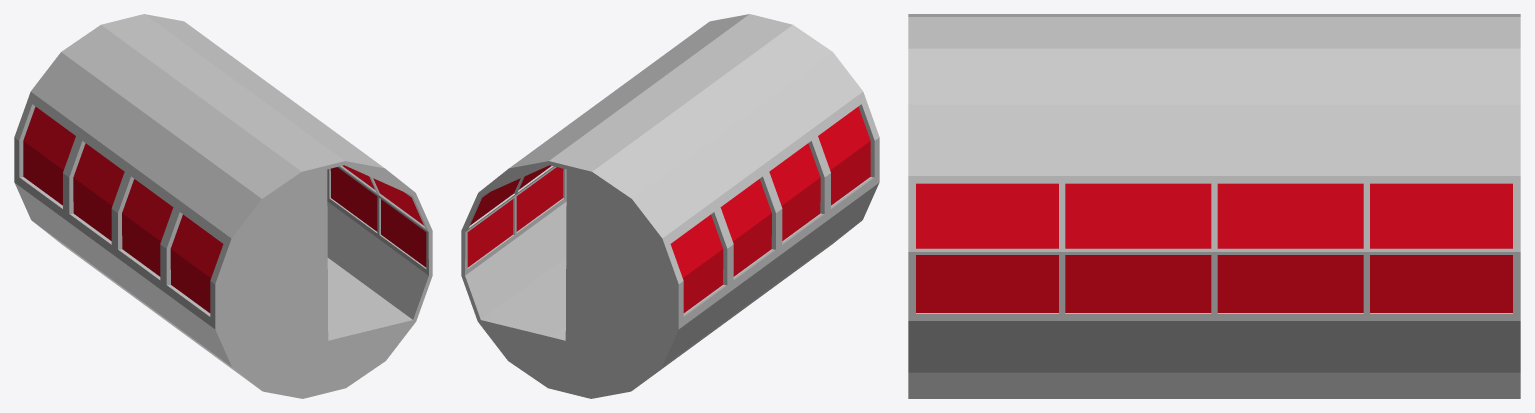
File: SM_monorail_station_02.gltf
3 renders of one model, left to right at view 1: azimuth 30°, elevation 25°; view 2: azimuth 150°, elevation 25°; view 3: azimuth 270°, elevation 25°, orthographic. The views are drawn at different scales.
Parts seen in each view (by area): view 1: monorail_station_02; view 2: monorail_station_02; view 3: monorail_station_02.
Part boxes in pixels (bbox=[...]): monorail_station_02: bbox=[14, 14, 432, 398]; monorail_station_02: bbox=[461, 14, 879, 398]; monorail_station_02: bbox=[908, 14, 1520, 398].
Bounding box in the file's own units: 5 × 5 × 8.
